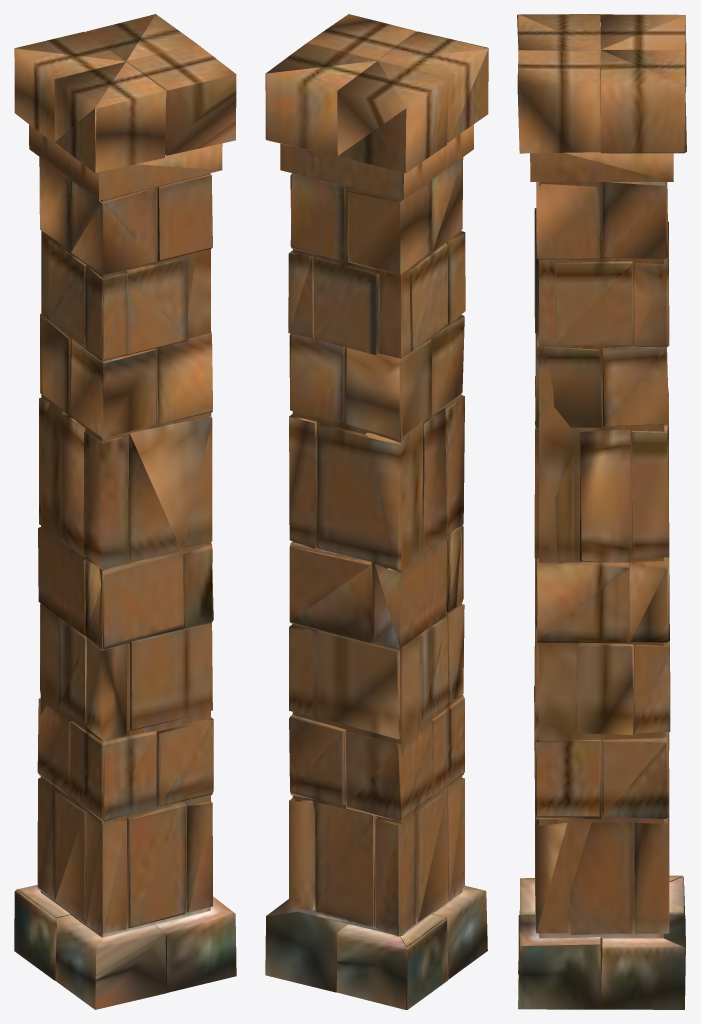
The model's file is pillar.lod1.glb.
The picture shows the model from 3 angles, left to right: view 1: azimuth 30°, elevation 25°; view 2: azimuth 150°, elevation 25°; view 3: azimuth 270°, elevation 25°; orthographic projection. The views are drawn at different scales.
Size of the model in its own units: 0.4985 by 3 by 0.5.
Materials: 1 (1 with a texture image).
